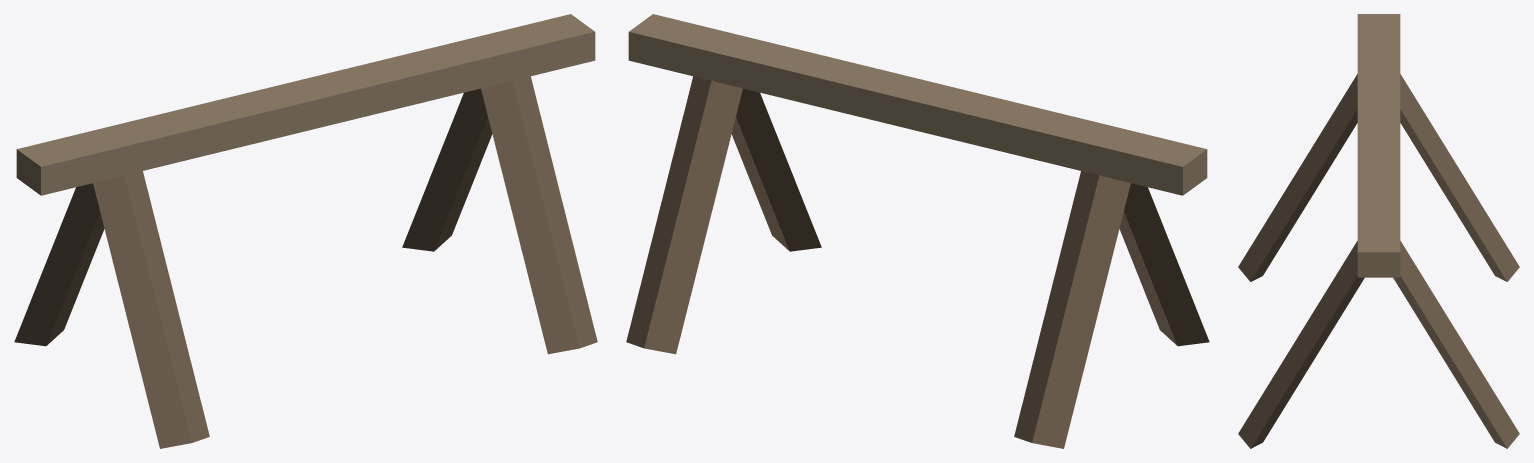
Rendered from sawhorse.glb.
3 views of the same model, side by side, from view 1: azimuth 30°, elevation 25°; view 2: azimuth 150°, elevation 25°; view 3: azimuth 270°, elevation 25° (orthographic). The views are drawn at different scales.
Parts seen in each view (by area): view 1: sawhorse; view 2: sawhorse; view 3: sawhorse.
Boxes of the visible parts, left/top/right/bottom form: sawhorse: left=14, top=14, right=597, bottom=448; sawhorse: left=626, top=14, right=1209, bottom=448; sawhorse: left=1238, top=14, right=1519, bottom=448.
Bounding box in the file's own units: 1.92 × 0.85 × 0.96.
